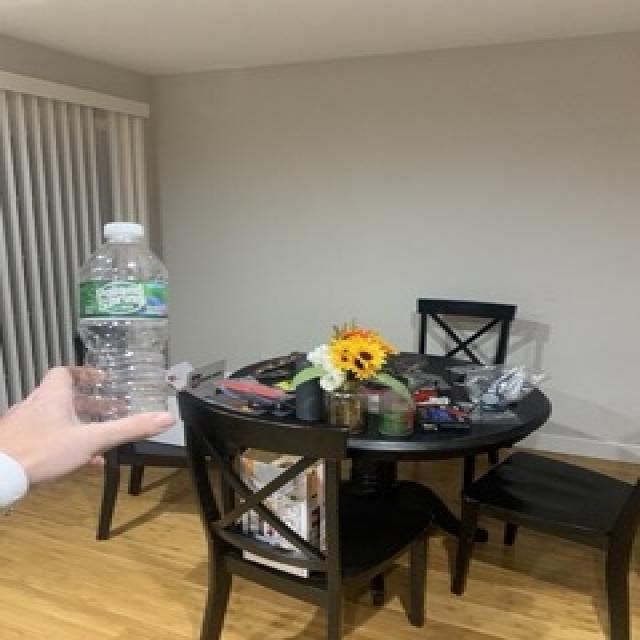water_bottle: (74, 220, 177, 442)
